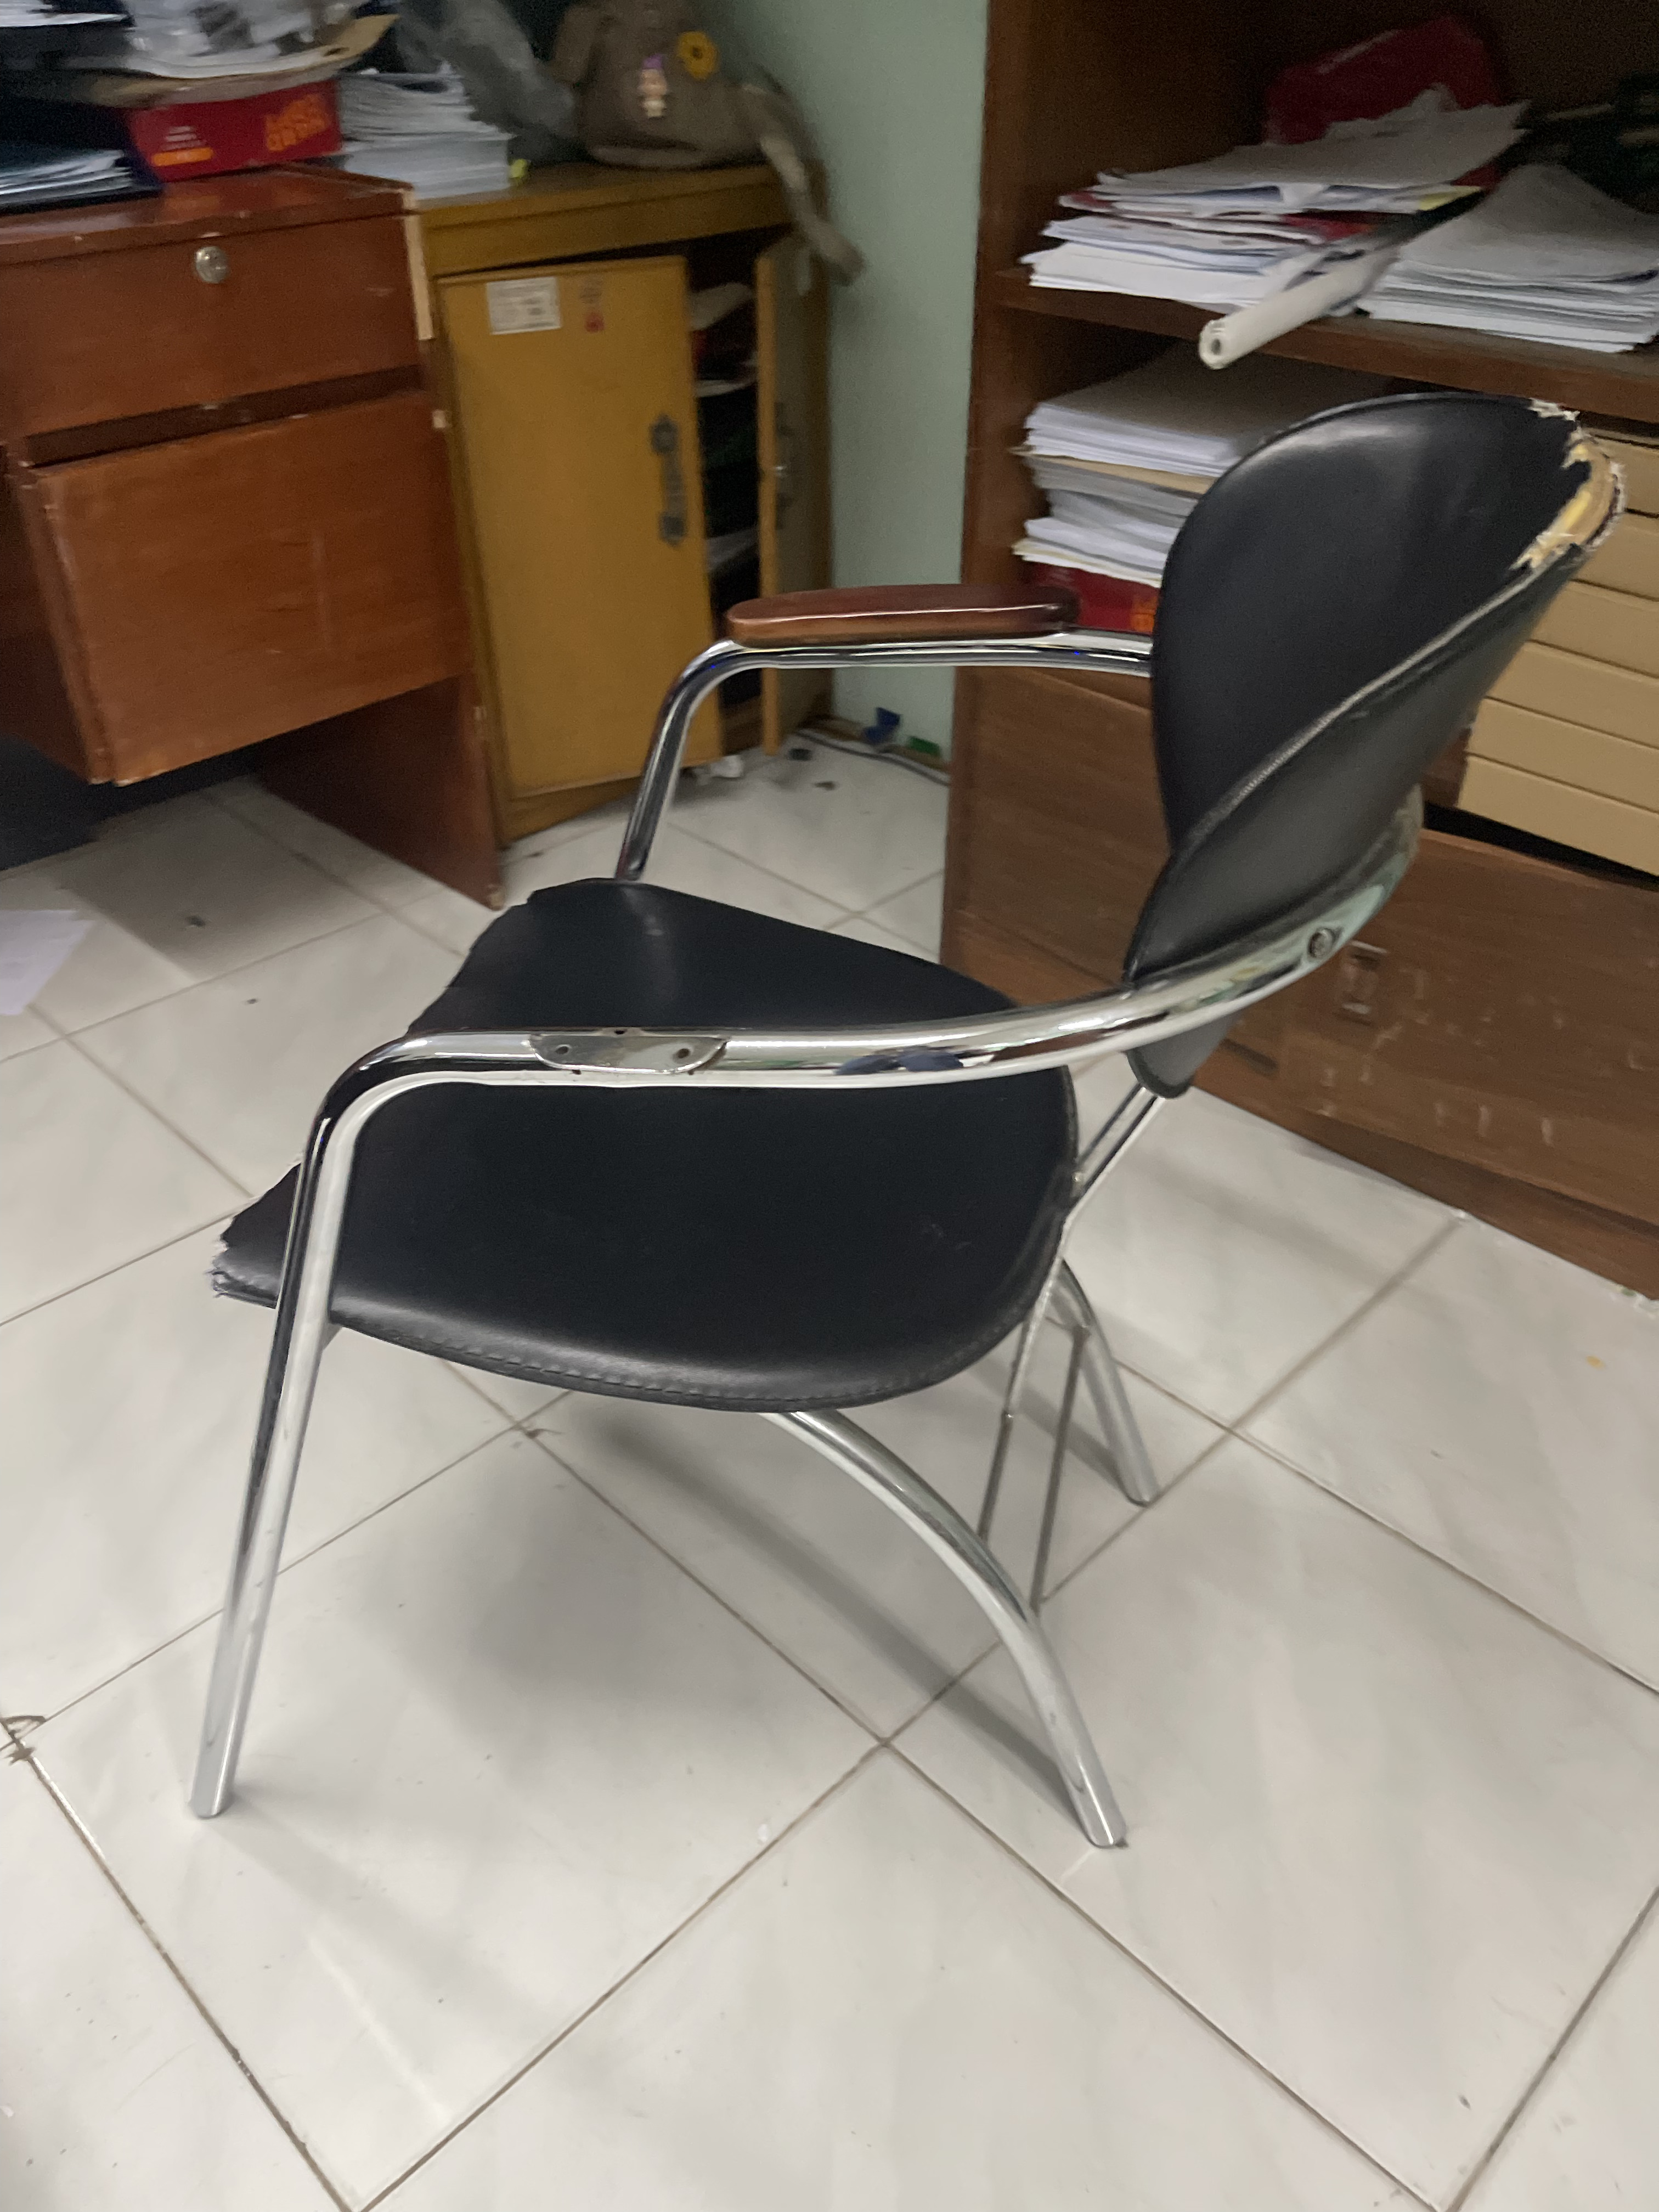chair1: (195, 395, 1628, 1869)
